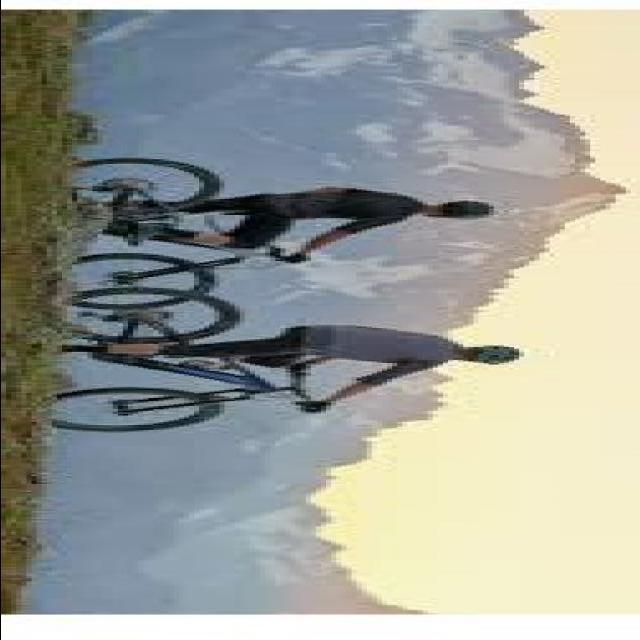bicycle: (51, 292, 341, 434), (72, 164, 321, 301)
